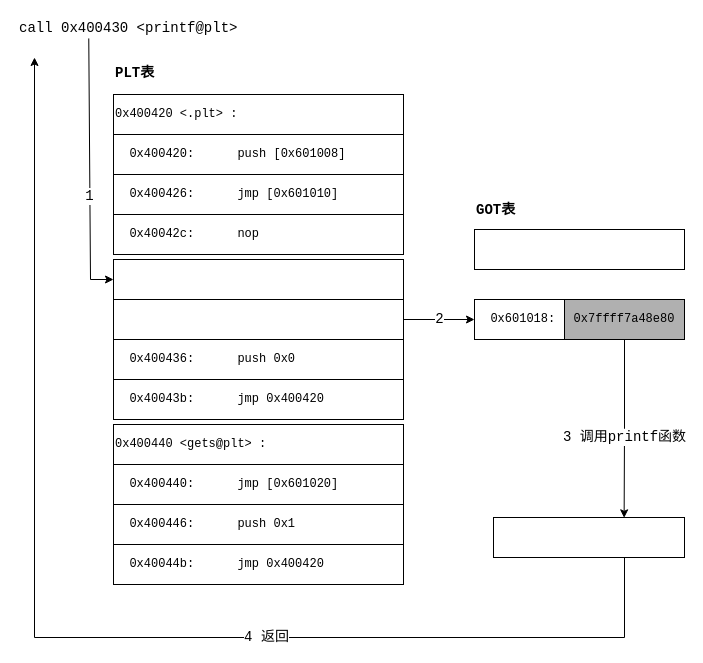
Some shapes in this 703 by 663 pixel diagram are drawn without their labels. Each missing label, with the centre of its shape:
"0x400430 <printf@plt> :" goes at [258,279].
"0x400430: jmp [0x601018]" goes at [258,319].
"0x601010: 0x7ffff7dec680" goes at [579,249].
"<printf> 0x7ffff7a48e80" goes at [588,537].
